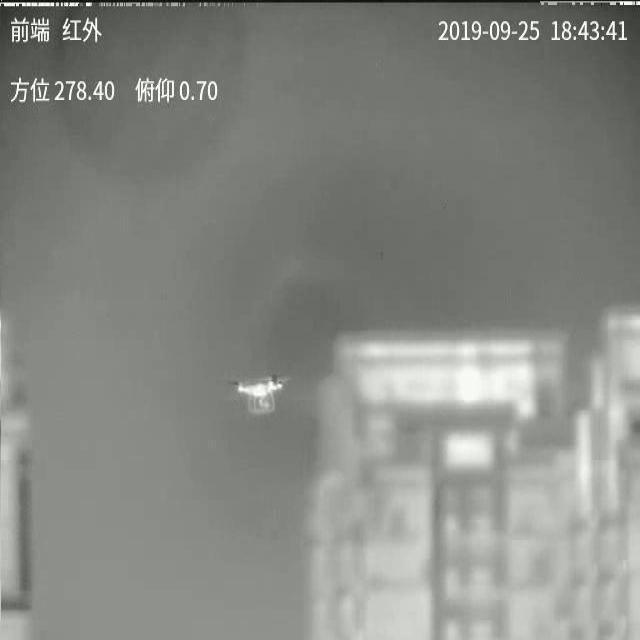drone: (228, 375, 288, 414)
